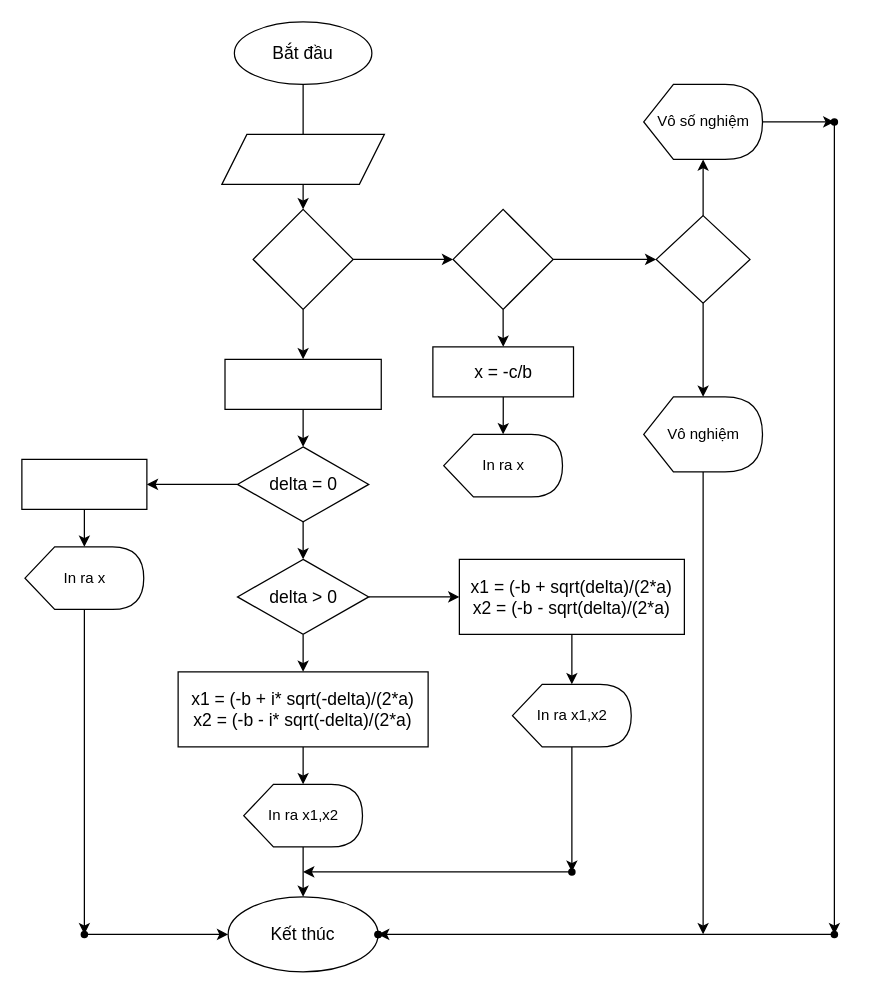
Some shapes in this 881 by 994 pixel diagram are drawn without their labels. Each missing label, with the centre of its shape:
"a = 0" goes at pixel 302 258.
"b = 0" goes at pixel 502 258.
"c = 0" goes at pixel 702 258.
"delta = b*b - 4*a*c" goes at pixel 302 383.
"Nhập a,b,c" goes at pixel 302 158.
"x = -b/(2*a)" goes at pixel 84 483.
